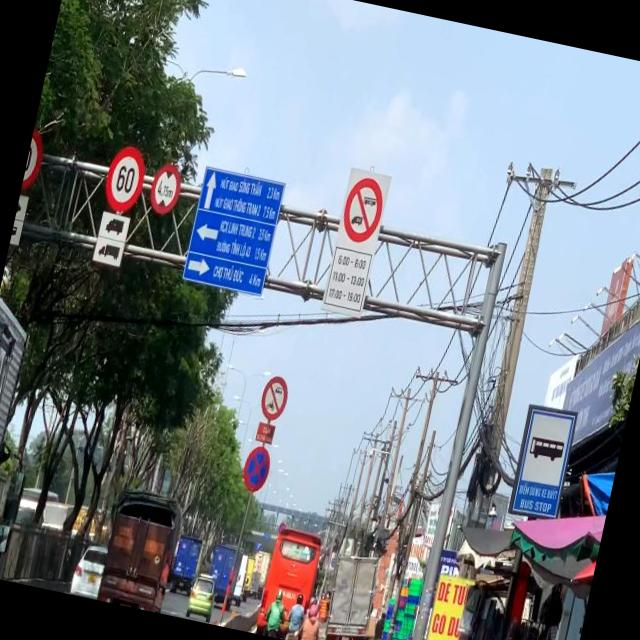P-117: (146, 158, 184, 216)
P-130: (240, 444, 272, 492)
